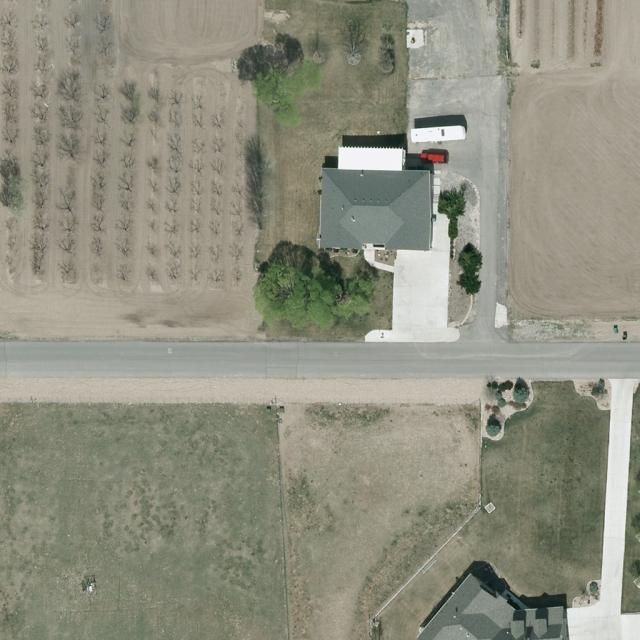vehicle: (419, 152, 446, 166)
